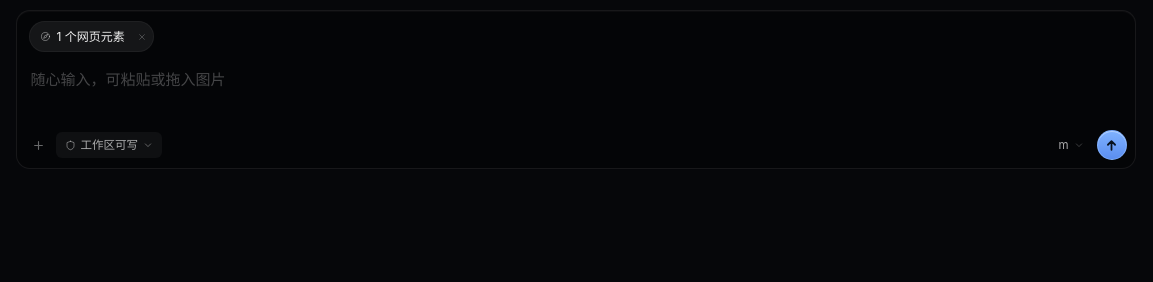
Test: 网页元素附件 › 再点一次收起预览
Click the button with class "attach-open": (80, 37) [30,22,131,51]
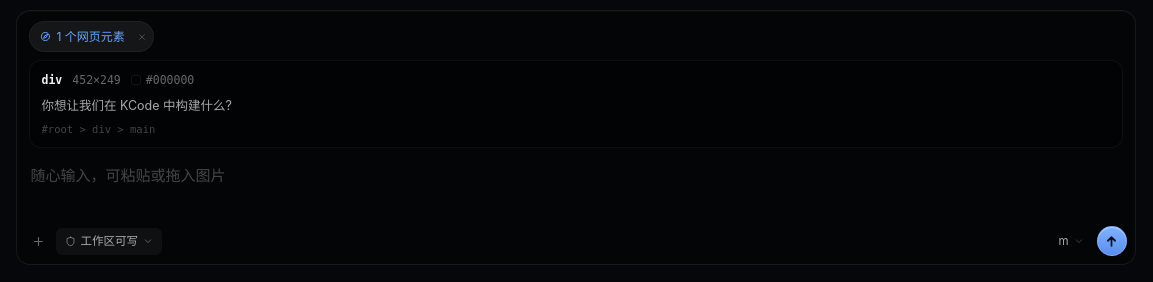
Expected: the element with class "attach-preview" is shown, [28,60,1122,148]
Click the button with class "attach-open": (80, 37) [30,22,131,51]
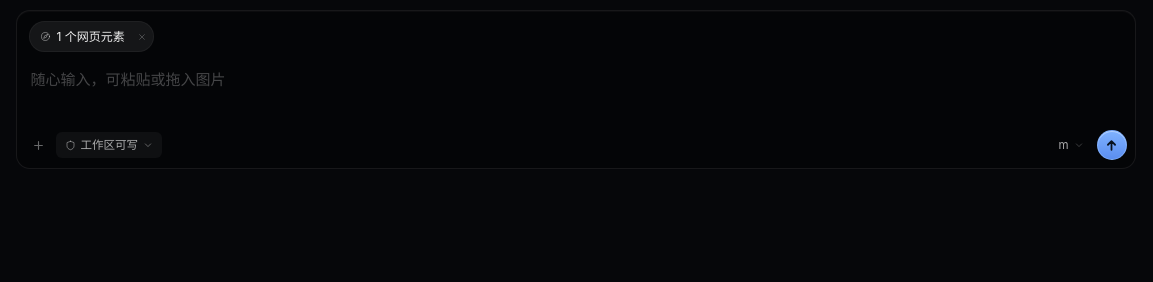
Expected: the element with class "attach-preview" is gone
